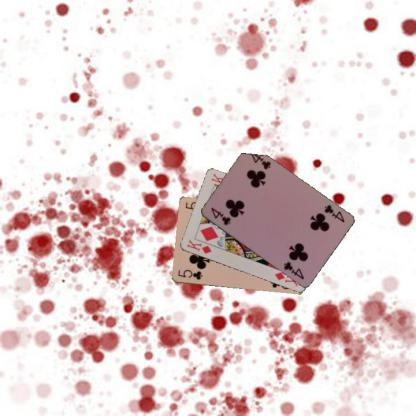4c: (321, 202, 346, 224), (208, 204, 232, 226)
5c: (176, 267, 203, 281)
Kd: (184, 237, 213, 255)
